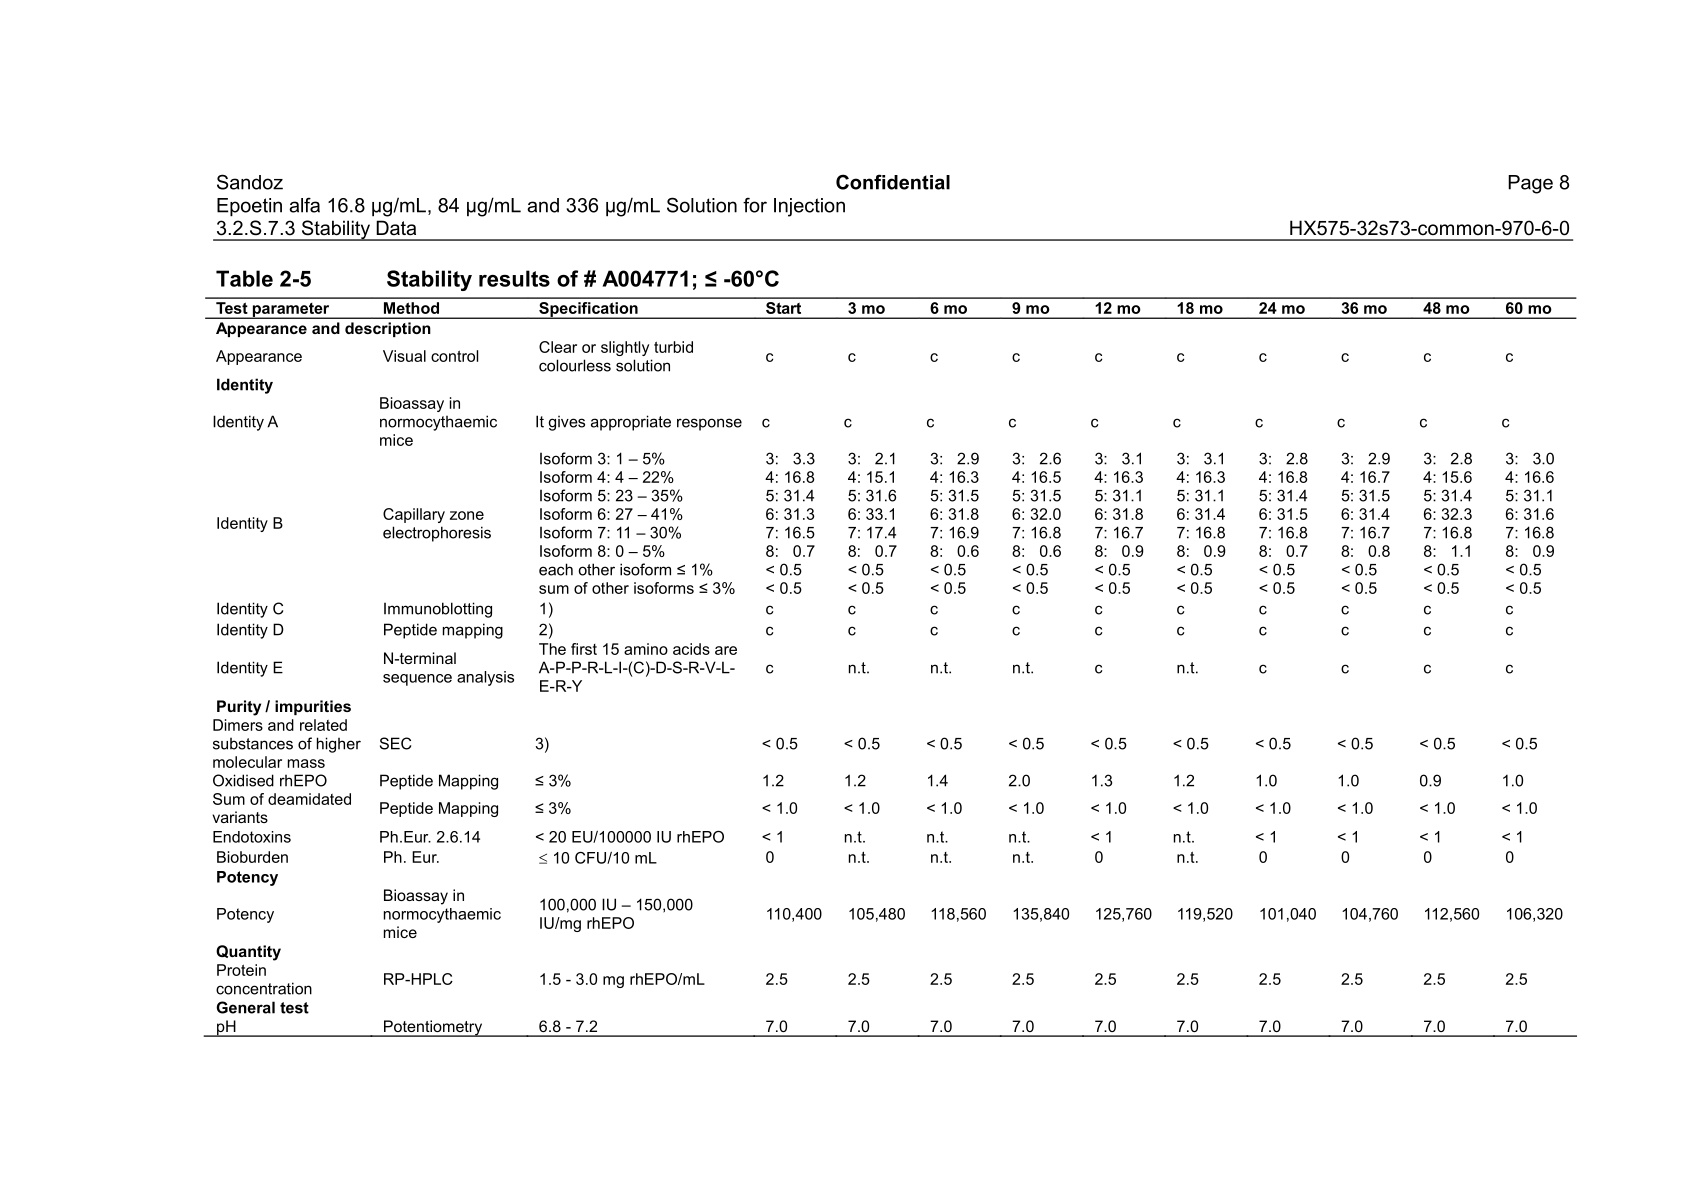partial_lined_merged_cells: (202, 296, 1577, 1038)
